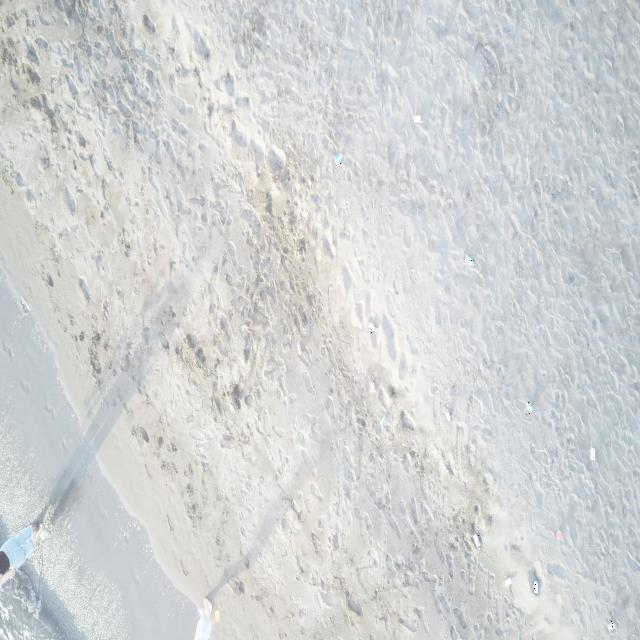tin-and-aluminum-cans: (464, 252, 474, 266), (337, 151, 345, 167), (473, 534, 481, 550), (368, 322, 378, 334), (444, 408, 452, 422), (526, 402, 533, 415), (590, 447, 596, 462), (533, 579, 539, 594), (298, 342, 304, 357), (607, 620, 615, 631), (505, 576, 512, 588), (370, 380, 376, 394), (414, 114, 422, 124), (556, 528, 562, 540), (380, 415, 386, 427)
